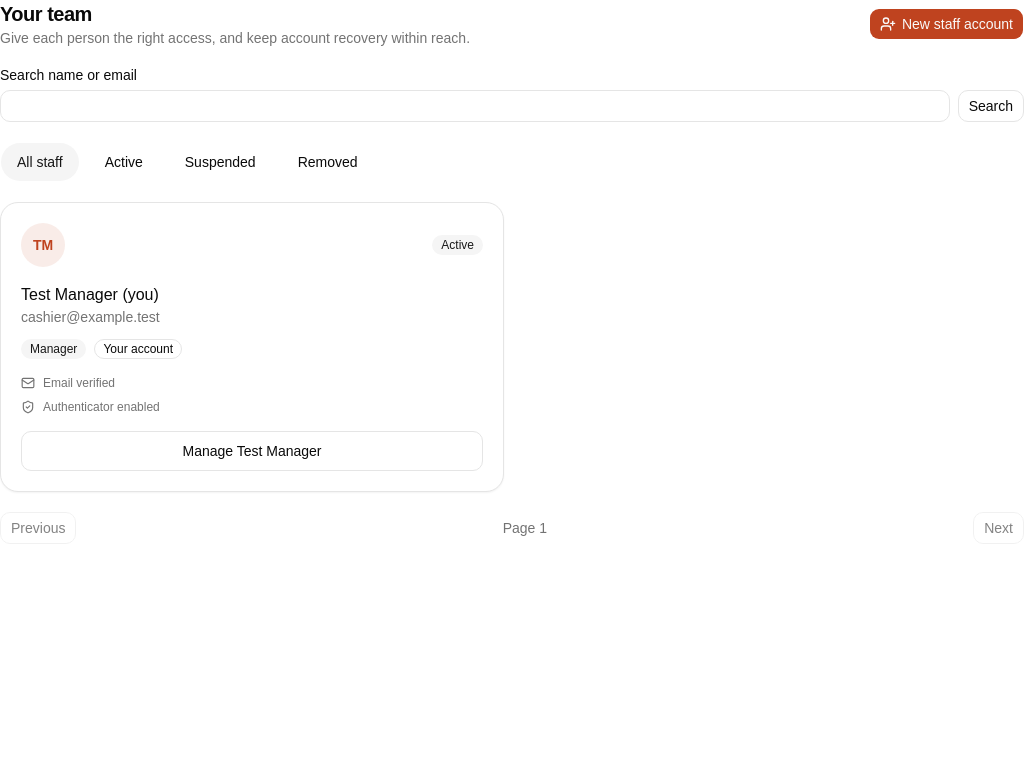
Test: prevents self-suspension, self-demotion and self MFA reset in the form
This screenshot has width=1024, height=768.
Click the button "Manage Test Manager" at (252, 451), box [21,431,483,471]
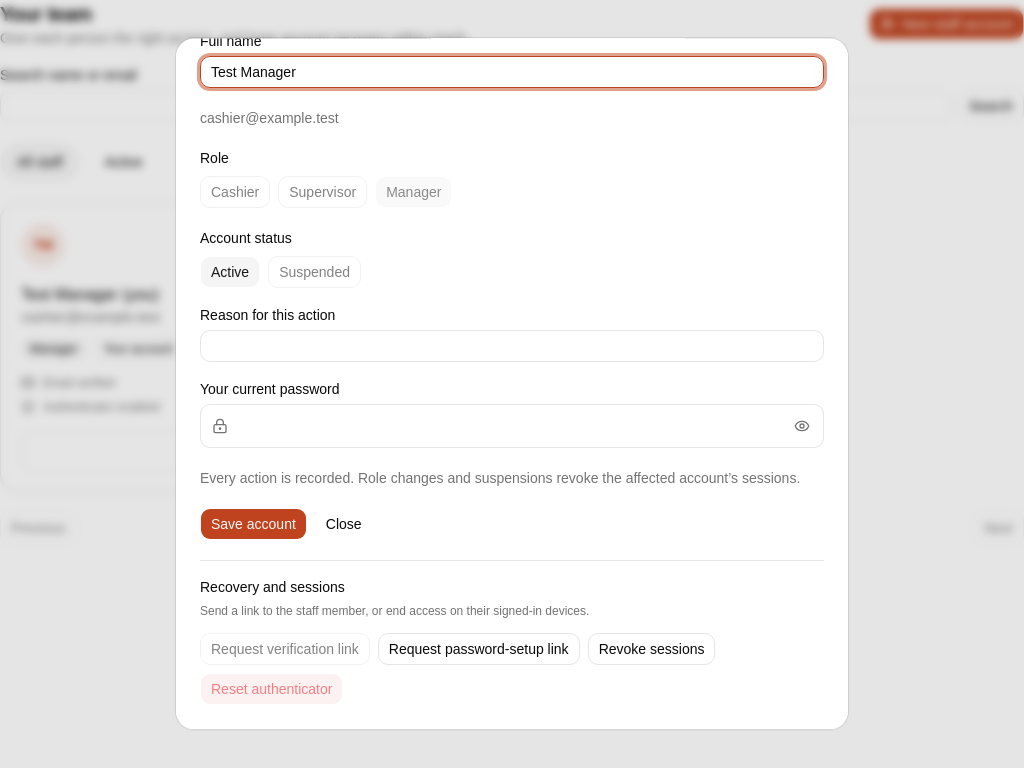
Result: the button "Suspended" is disabled at [268,256,361,288]
Result: the button "Cashier" is disabled at [200,176,270,208]
Result: the button "Reset authenticator" is disabled at [200,673,343,705]
